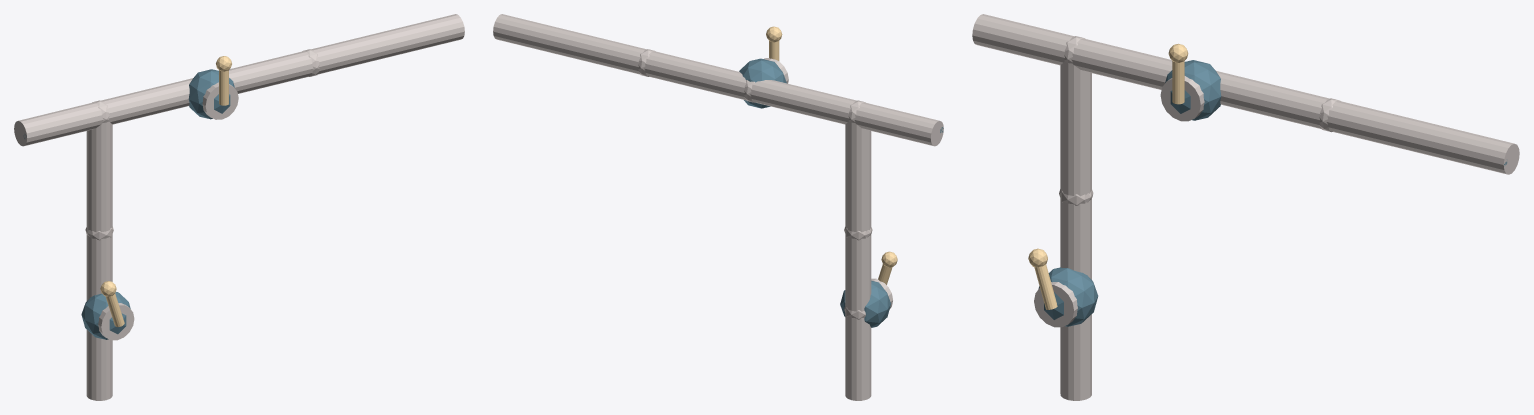
Rendered from plant-00-0.glb.
3 renders of one model, left to right at view 1: azimuth 30°, elevation 25°; view 2: azimuth 150°, elevation 25°; view 3: azimuth 330°, elevation 25°, orthographic. The views are drawn at different scales.
Visible parts, largest first — view 1: pipe, dark, handle; view 2: pipe, dark, handle; view 3: pipe, dark, handle.
Boxes of the visible parts, x1,y1,x2,y2 form: pipe: (14,14,464,400); dark: (23,69,234,339); handle: (100,56,231,327); pipe: (493,14,943,400); dark: (739,58,943,327); handle: (766,26,897,284); pipe: (972,14,1519,400); dark: (1038,60,1507,326); handle: (1028,43,1188,309).
Size of the model in its own units: 2.77 by 1.99 by 0.343.
